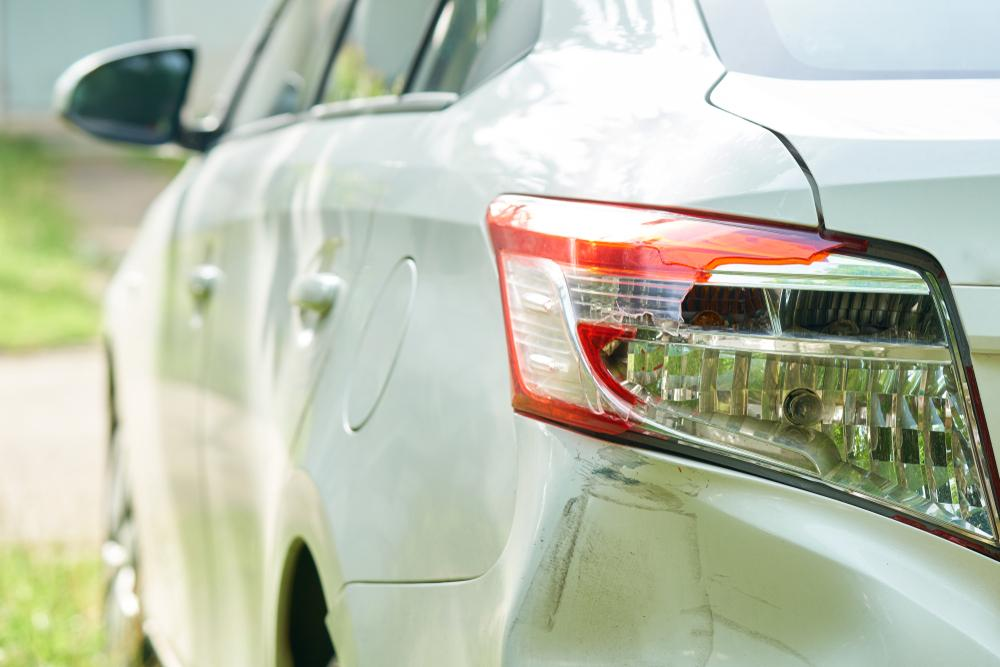dent: (499, 458, 880, 667)
lamp broken: (484, 193, 1000, 563)
